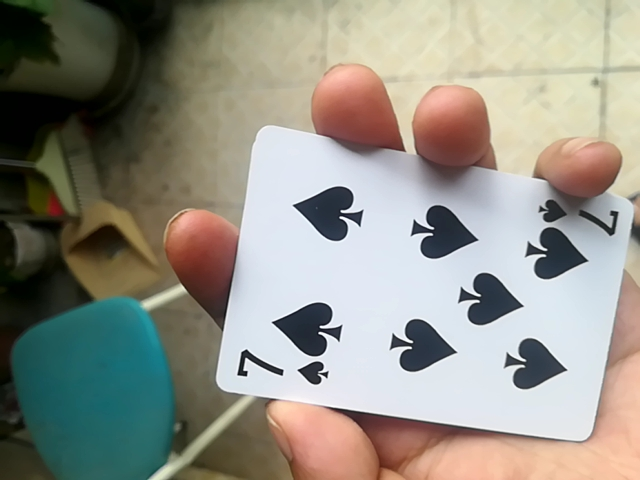ht 7: (217, 130, 634, 445)
